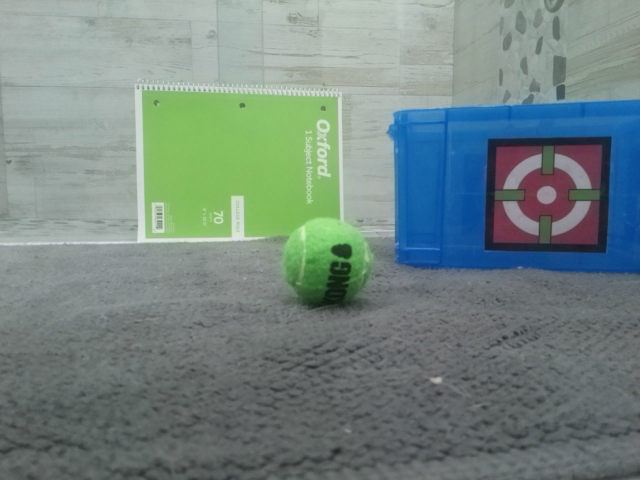drop-bin: (484, 136, 612, 254)
green-ball: (282, 216, 373, 307)
